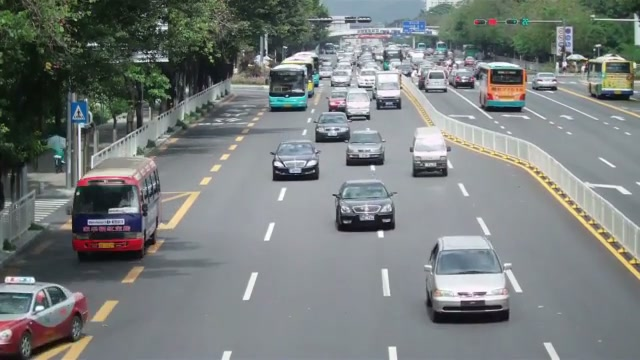bus: (71, 156, 162, 261), (476, 62, 527, 112), (586, 55, 635, 100), (268, 63, 309, 111), (281, 51, 320, 90)
car: (423, 235, 512, 323), (0, 277, 90, 358), (331, 179, 398, 231), (408, 126, 450, 177), (270, 140, 321, 180), (345, 128, 387, 166), (314, 112, 351, 142), (346, 89, 371, 120), (450, 68, 476, 88), (532, 74, 558, 91)
truck: (475, 61, 527, 111), (375, 71, 402, 109)
